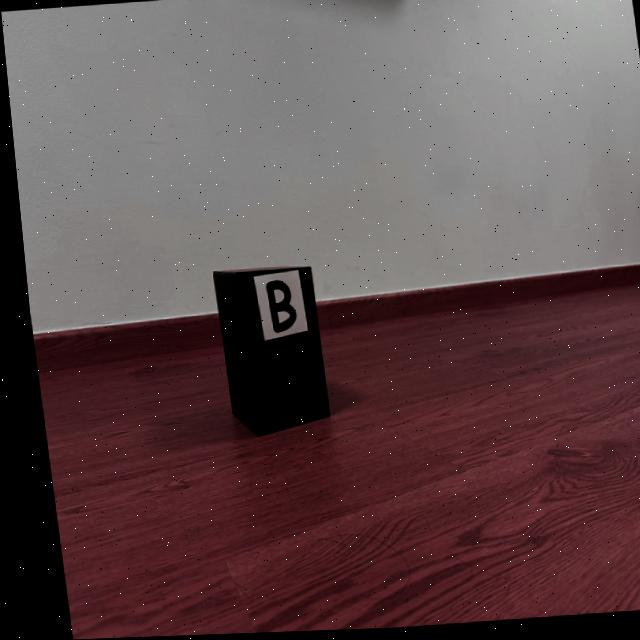B: (260, 282, 290, 336)
